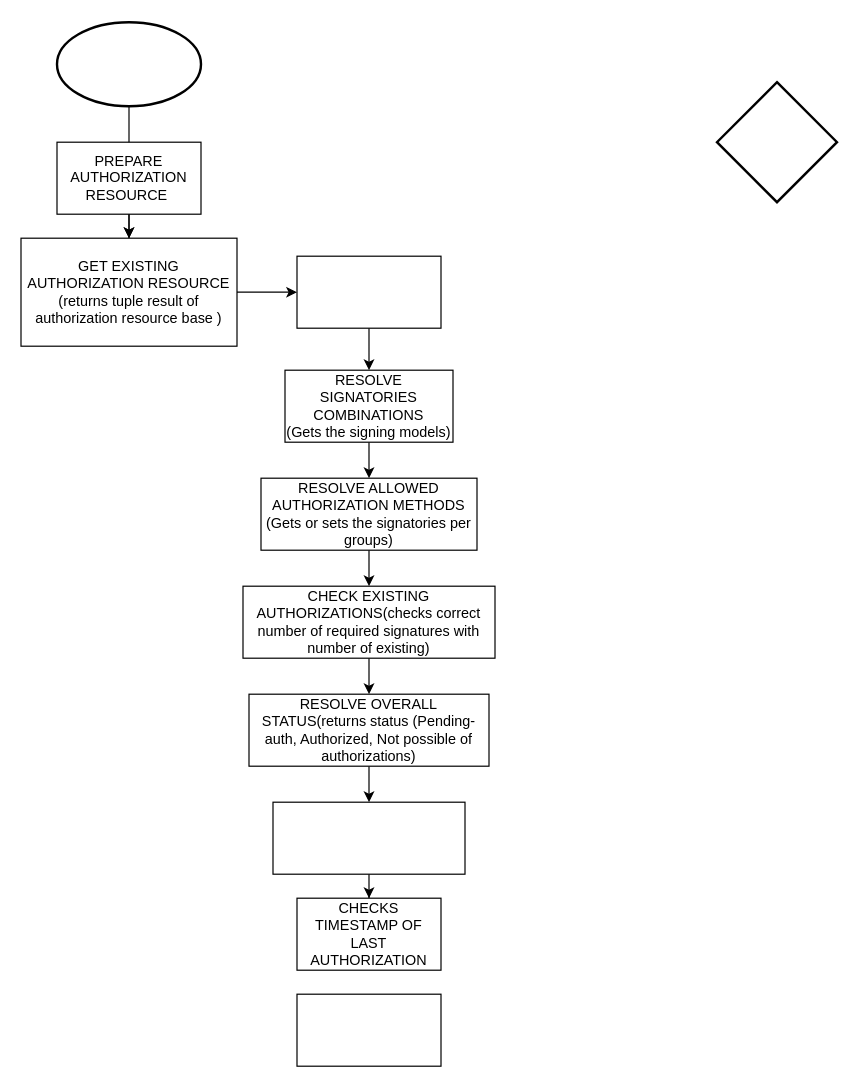
Image size: 859x1087. Some labels were removed from this diagram. Each missing label, with the box of its shape:
CHECK IS AUTHORIZABLE BY CURRENT USER(checks is it authorizable by current user): (272, 801, 465, 874)
GetAuthorizationDetails: (55, 20, 202, 107)
Returns informations of SigningDetails: (296, 993, 441, 1066)
SINGLE AUTHORIZATION RESOURCE: (296, 255, 441, 328)
